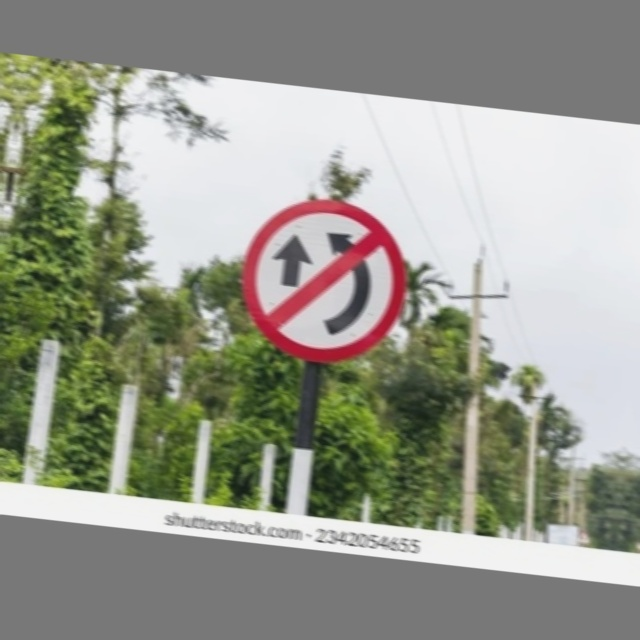Overtaking_Prohibited: (233, 196, 416, 374)
